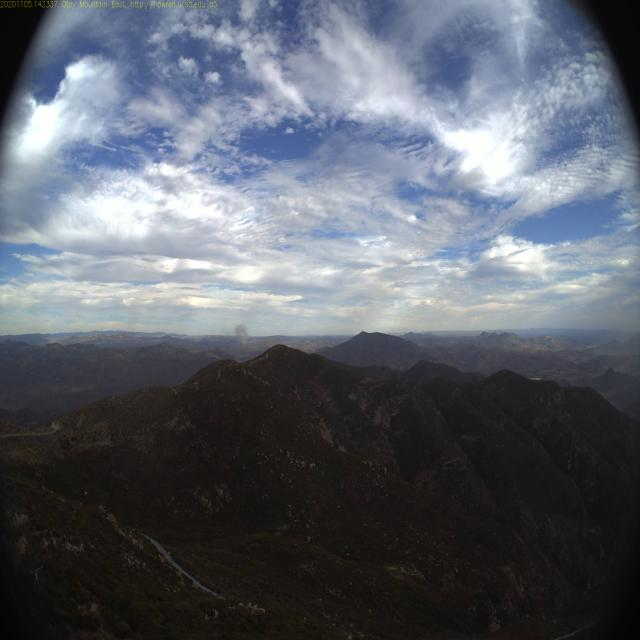smoke: (232, 321, 252, 346)
